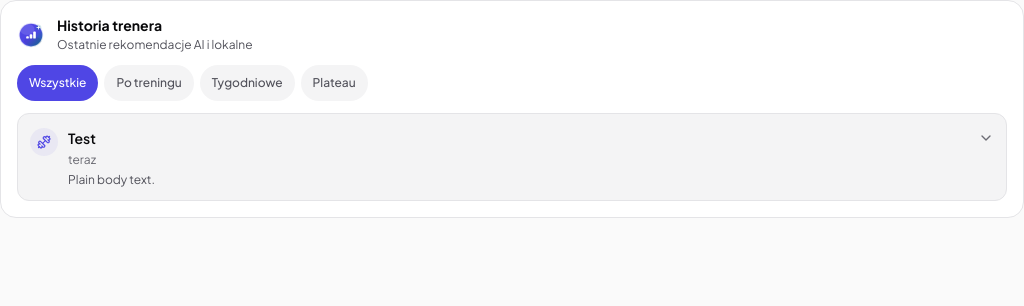
it: AiCoachHistory › marks the toggle button with aria-expanded
Click the button "Test teraz Plain body text.": (111, 179) x1=30 y1=126 x2=994 y2=188
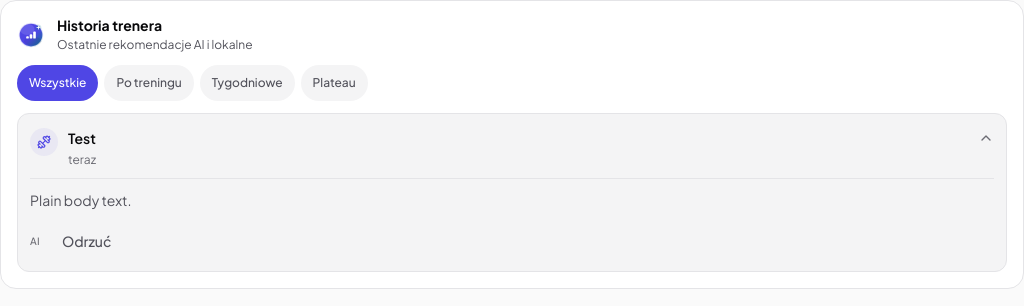
Expected: the button "Test teraz" is expanded, x1=30 y1=126 x2=994 y2=168
